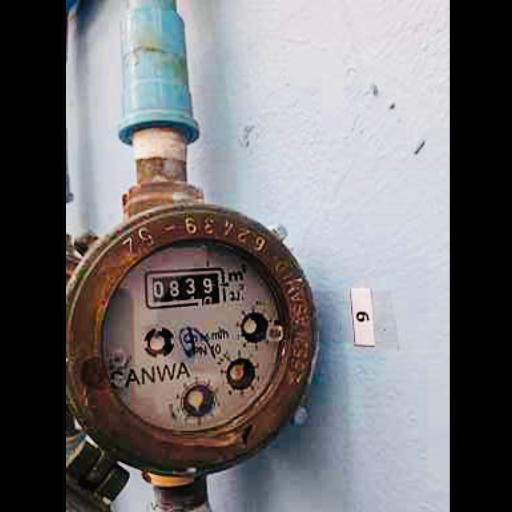0: (152, 276, 167, 302)
3: (181, 274, 201, 300)
8: (166, 275, 182, 301)
9: (199, 273, 219, 306)
border_water_meter_number: (143, 267, 226, 310)
